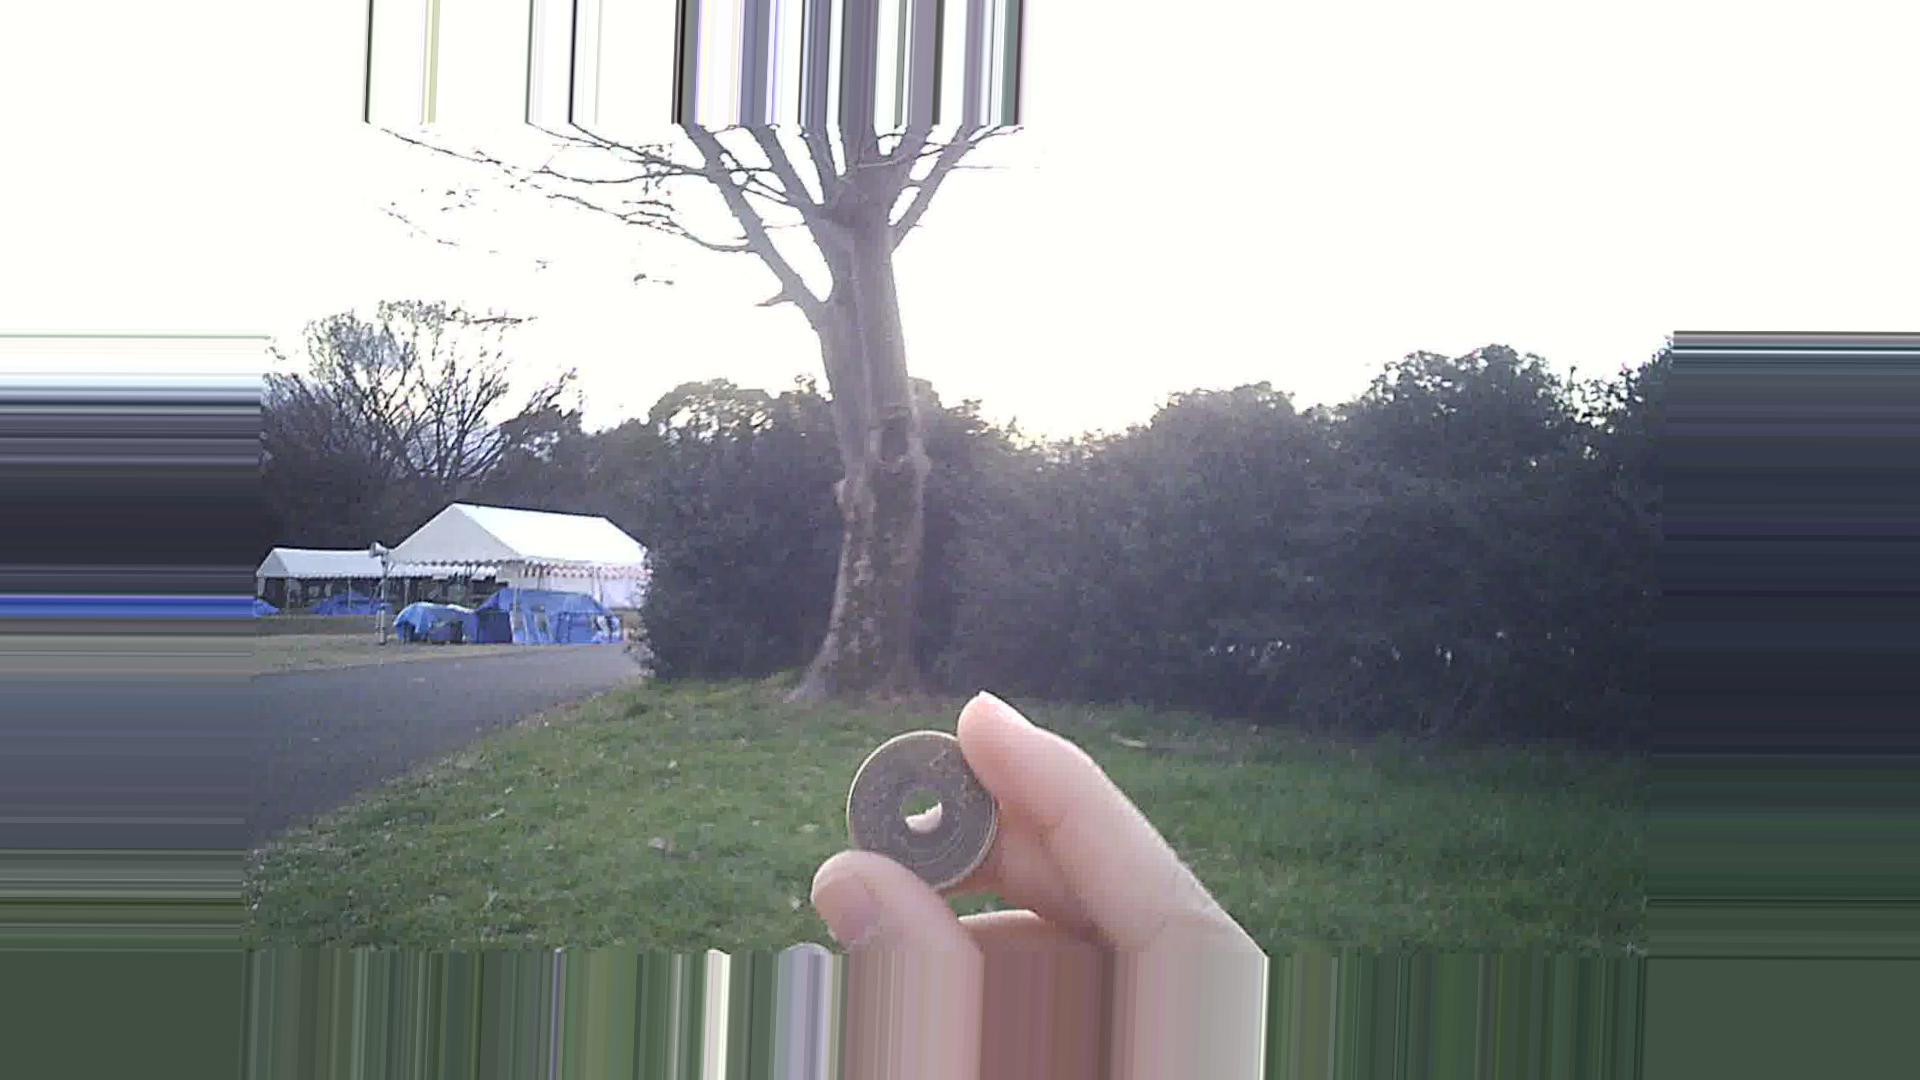5 Yen: (852, 735, 1025, 898)
